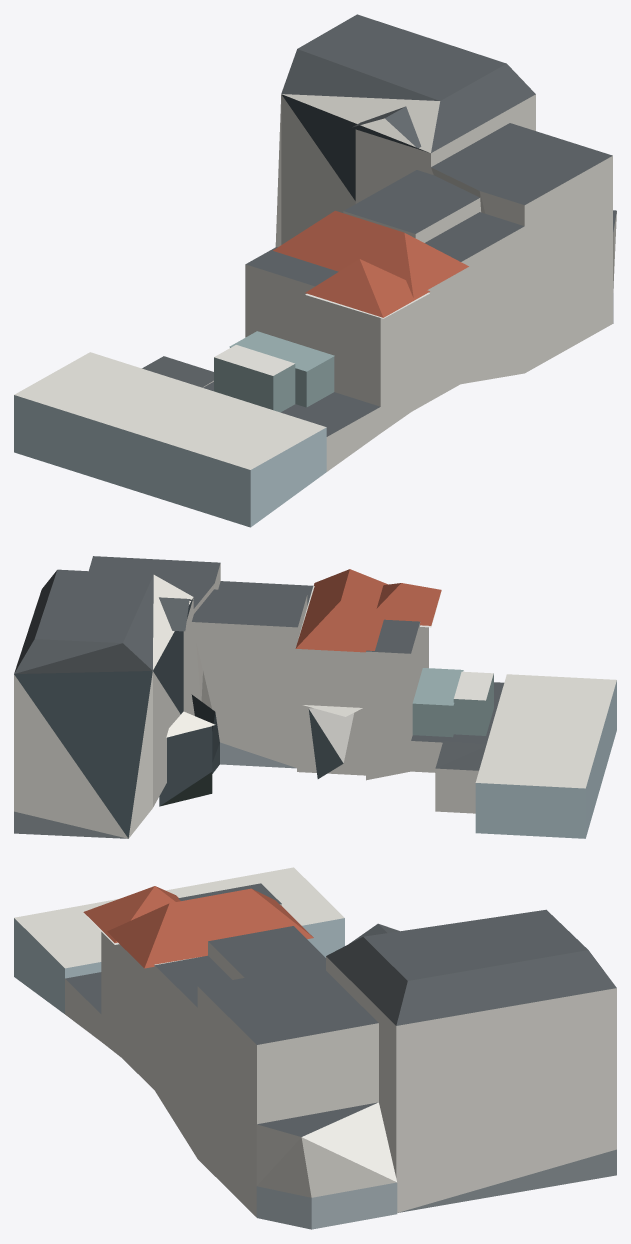
Rendered from de-roos.lod2.glb.
The picture shows the model from 3 angles, top to bottom: view 1: azimuth 30°, elevation 25°; view 2: azimuth 150°, elevation 25°; view 3: azimuth 270°, elevation 25°; orthographic projection. The views are drawn at different scales.
Parts seen in each view (by area): view 1: lod2; view 2: lod2; view 3: lod2.
Part boxes in pixels (left/top/right/bottom): lod2: left=14, top=14, right=616, bottom=527; lod2: left=14, top=556, right=616, bottom=838; lod2: left=14, top=867, right=616, bottom=1229.
Bounding box in the file's own units: 45.3 × 15.3 × 37.93.
